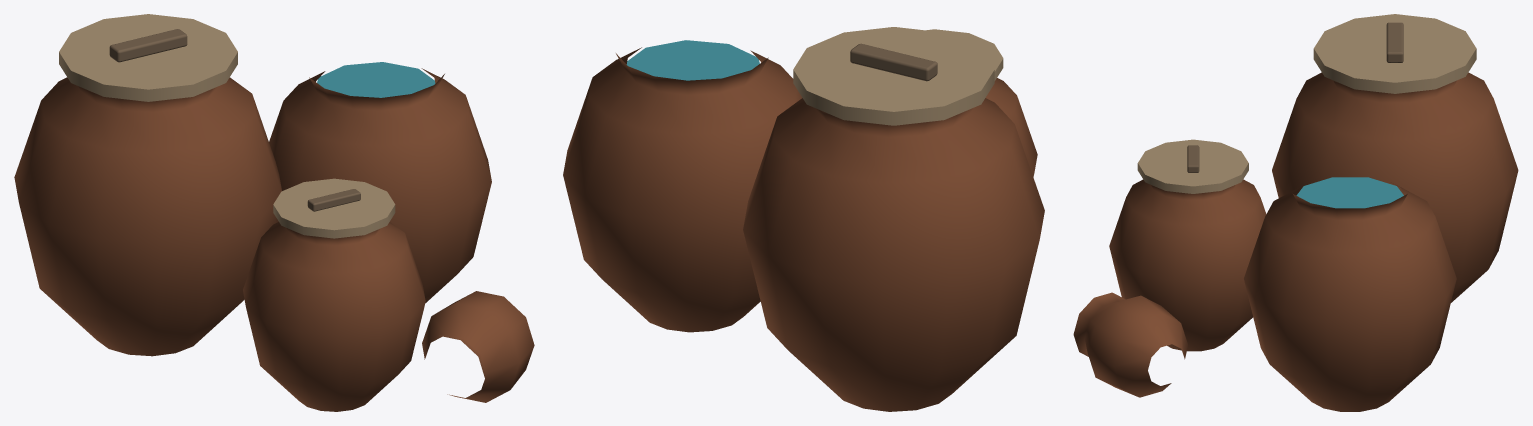
The model's file is pottery.glb.
3 views of the same model, side by side, from view 1: azimuth 30°, elevation 25°; view 2: azimuth 150°, elevation 25°; view 3: azimuth 270°, elevation 25° (orthographic). The views are drawn at different scales.
Visible parts, largest first — view 1: village-clay, planks, village-water, planks-dark; view 2: village-clay, planks, village-water, planks-dark; view 3: village-clay, planks, village-water, planks-dark.
Boxes of the visible parts, x1,y1,x2,y2 form: village-clay: [14, 68, 534, 411]; planks: [59, 14, 395, 238]; village-water: [317, 62, 435, 97]; planks-dark: [109, 29, 360, 211]; village-clay: [563, 47, 1044, 411]; planks: [793, 27, 1003, 125]; village-water: [626, 40, 759, 80]; planks-dark: [850, 43, 937, 81]; village-clay: [1073, 72, 1518, 411]; planks: [1137, 14, 1476, 193]; village-water: [1296, 177, 1403, 208]; planks-dark: [1187, 22, 1403, 172].
Bounding box in the file's own units: 1.95 × 1.32 × 1.98.
